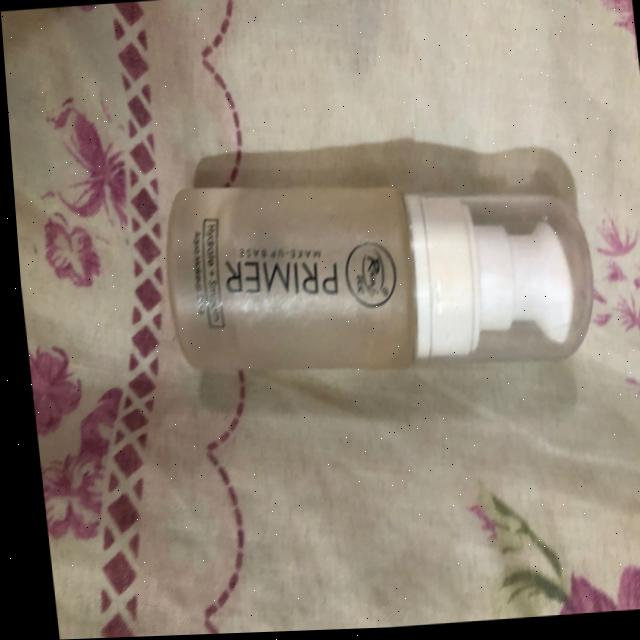primer: (136, 144, 608, 424)
